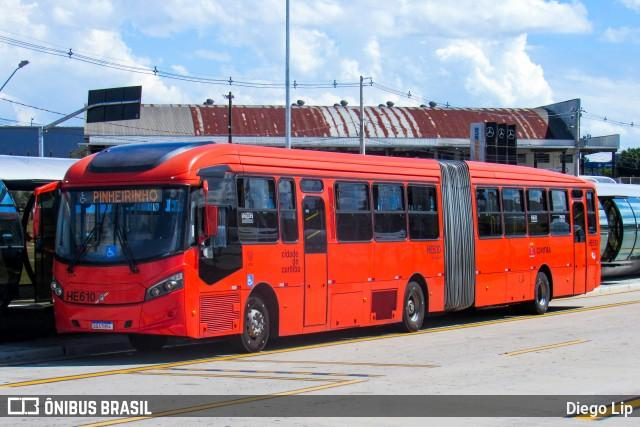PINHEIRINHO: (91, 187, 159, 206)
